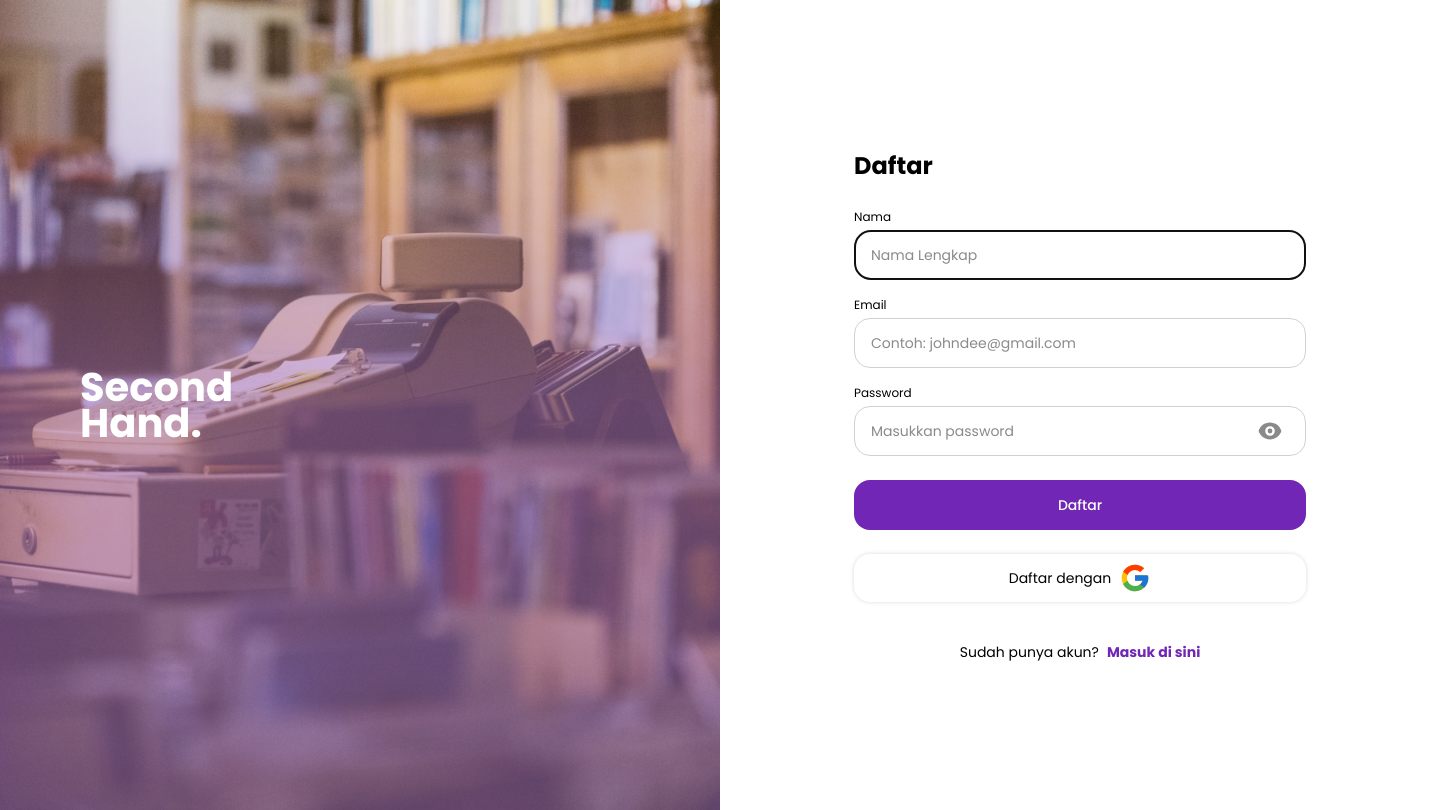
Test: Register page render alert properly › should render alert message "something went wrong"
The image size is (1440, 810).
Click the button with test id "register-button" at (1080, 505), box [854,480,1306,530]
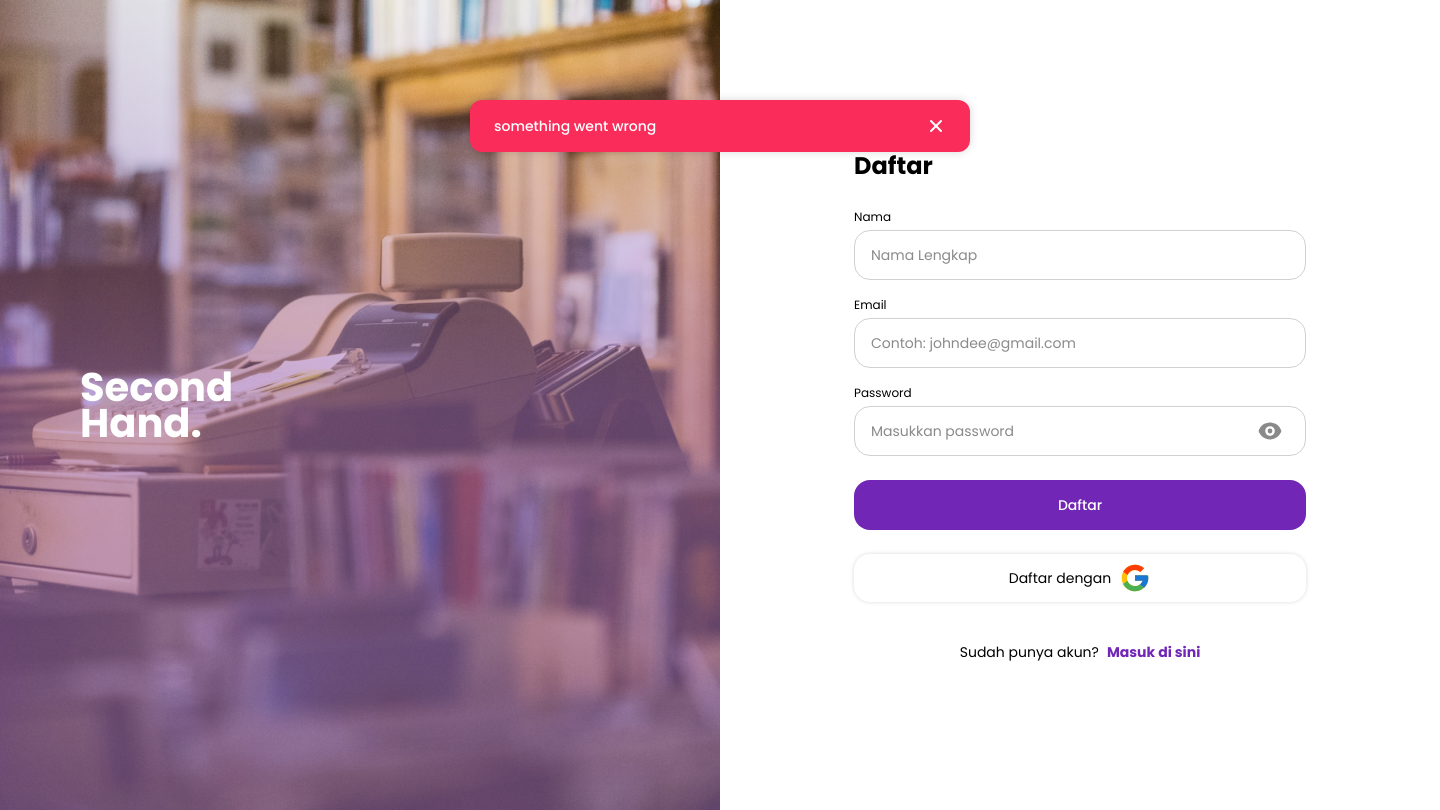
Result: the text "something went wrong" is shown at [494,116,656,136]
